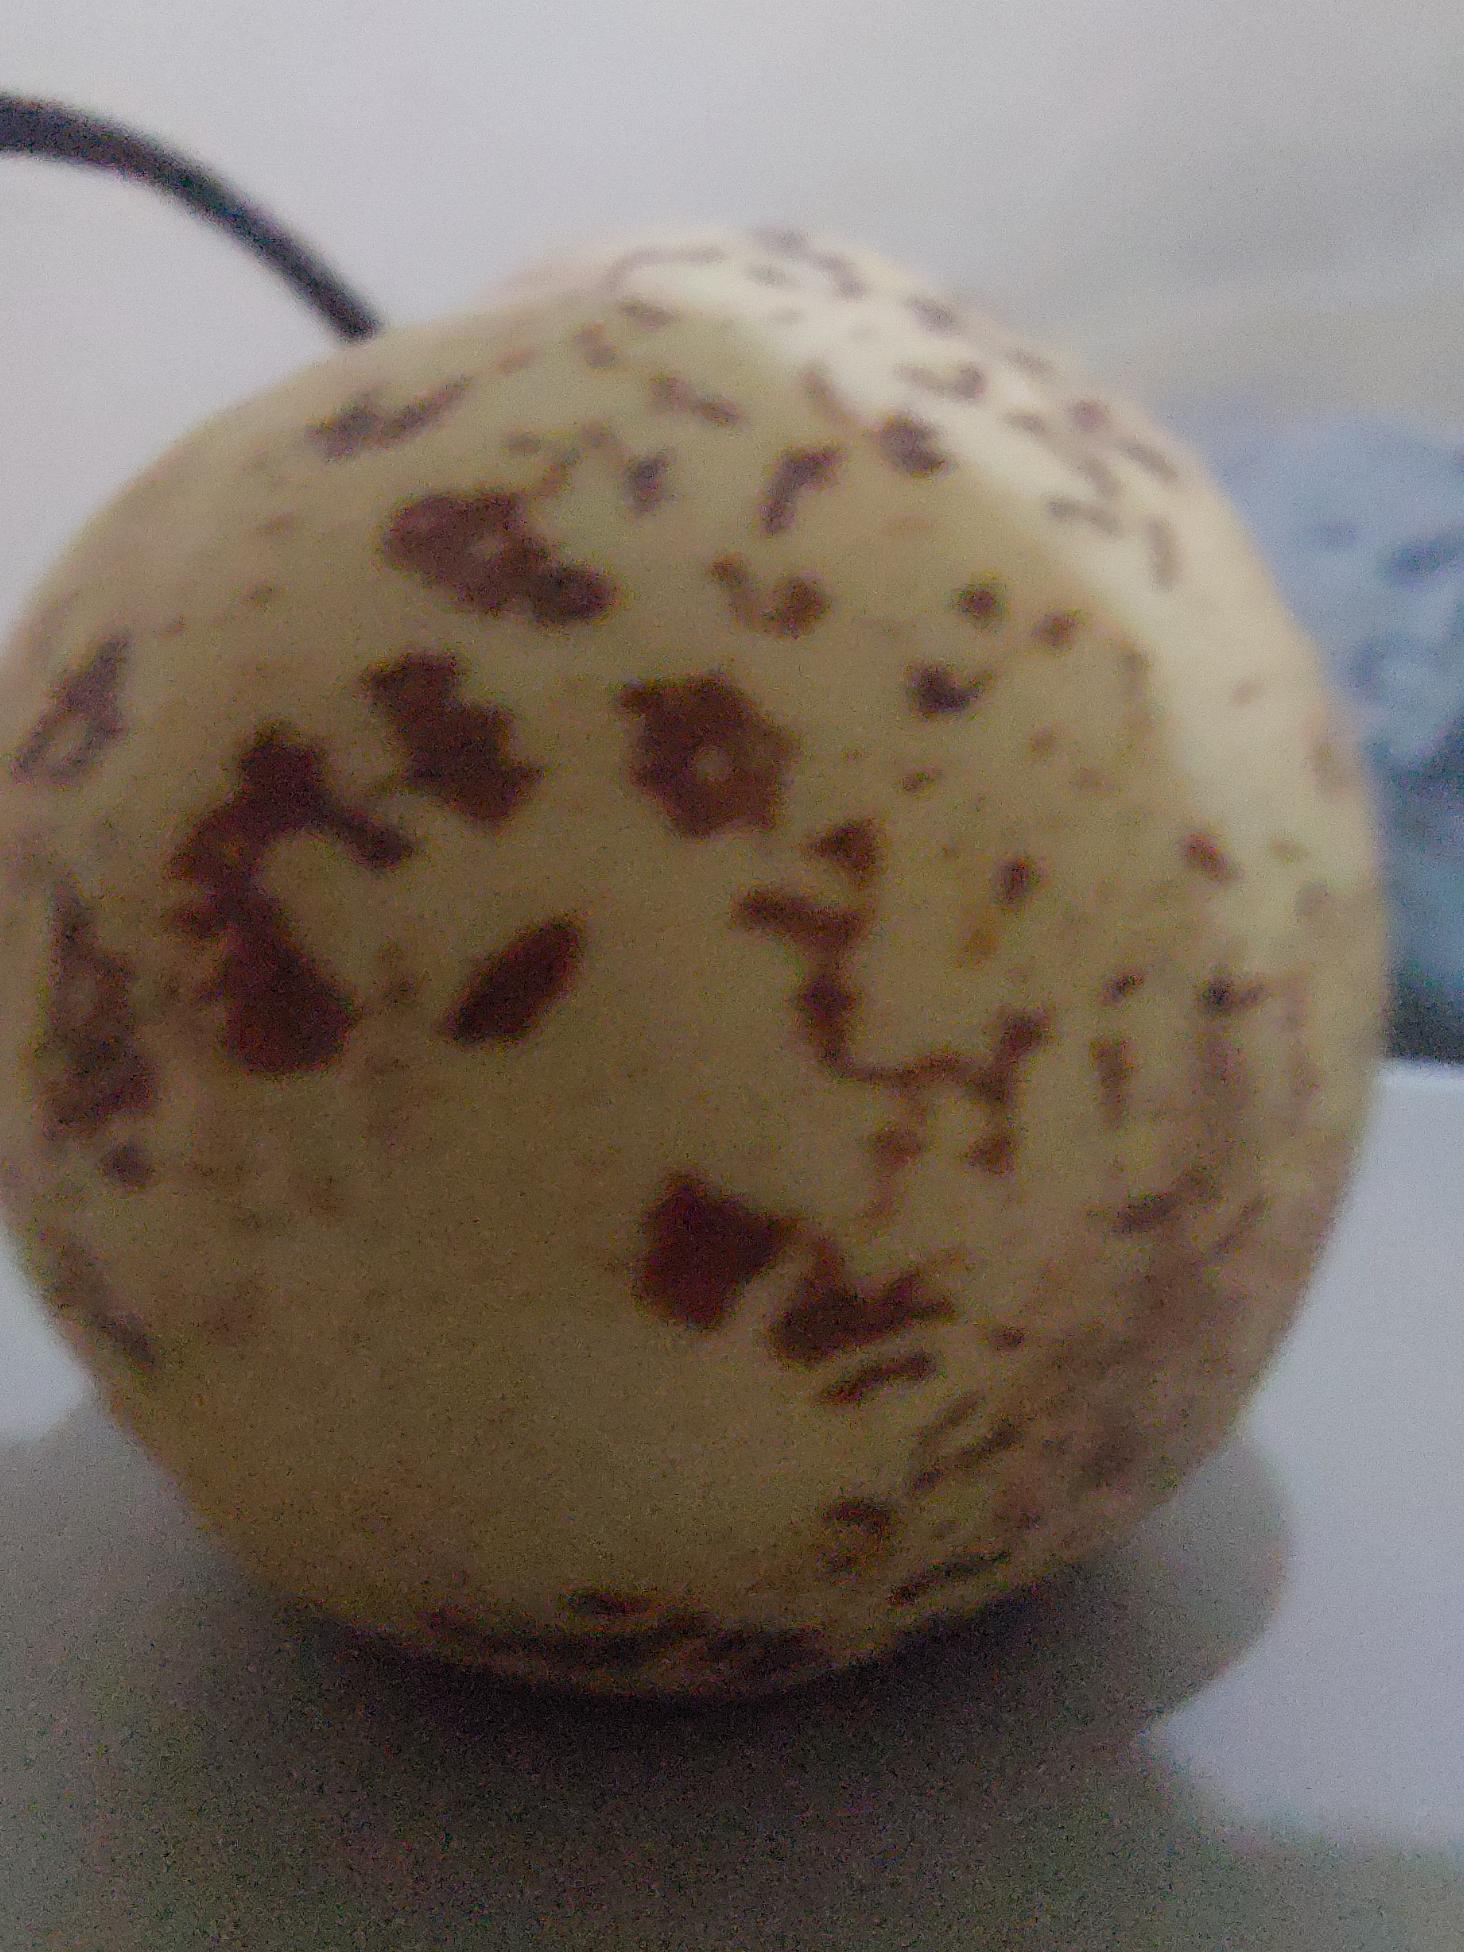Bad Pear: (0, 78, 1412, 1735)
